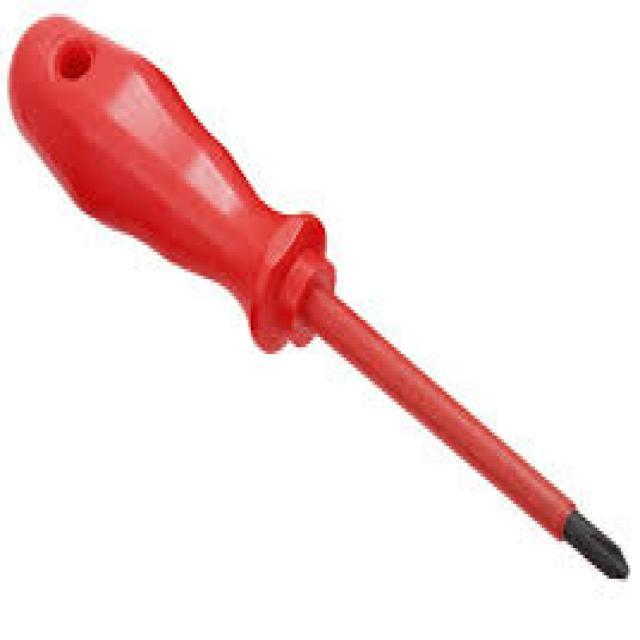screwdriver: (6, 9, 636, 588)
